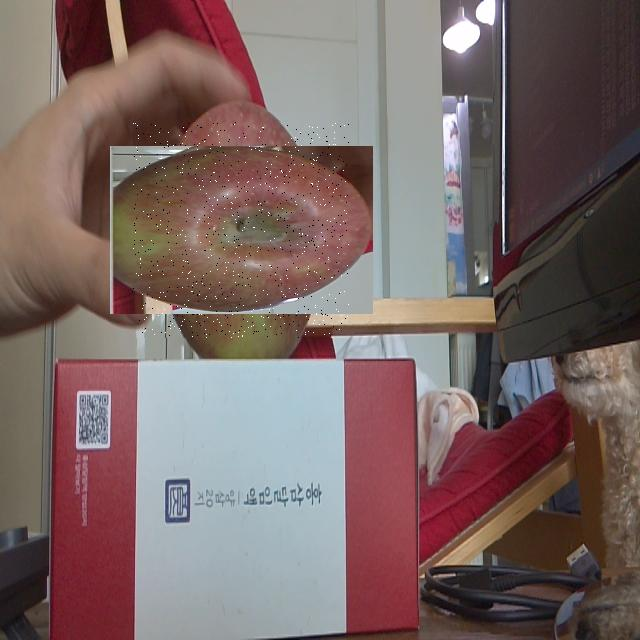apple: (133, 122, 350, 338)
